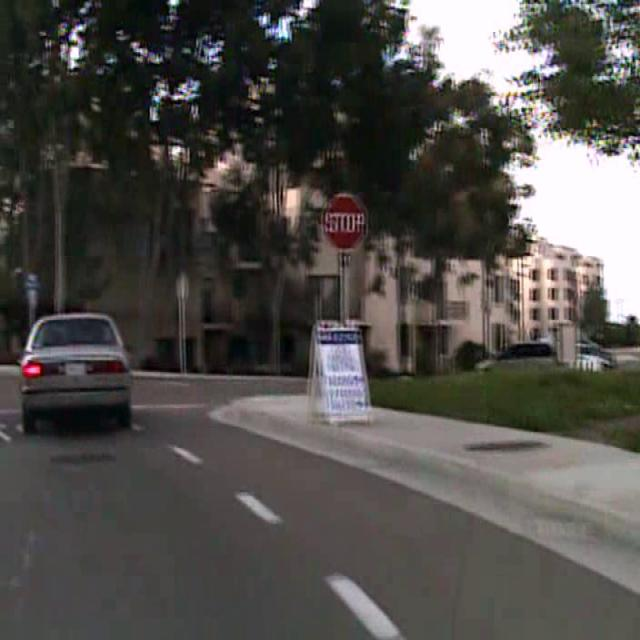stop_sign: (321, 190, 367, 250)
